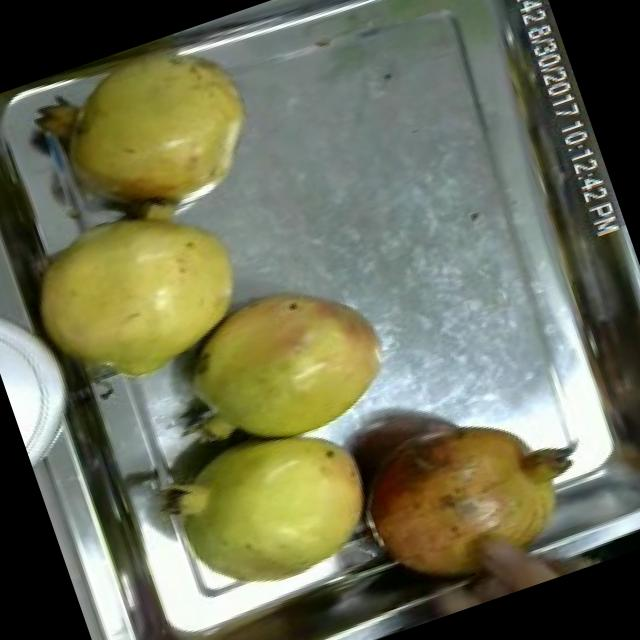fruit: (3, 168, 282, 423), (142, 247, 420, 483), (19, 12, 289, 250), (333, 379, 599, 615)
